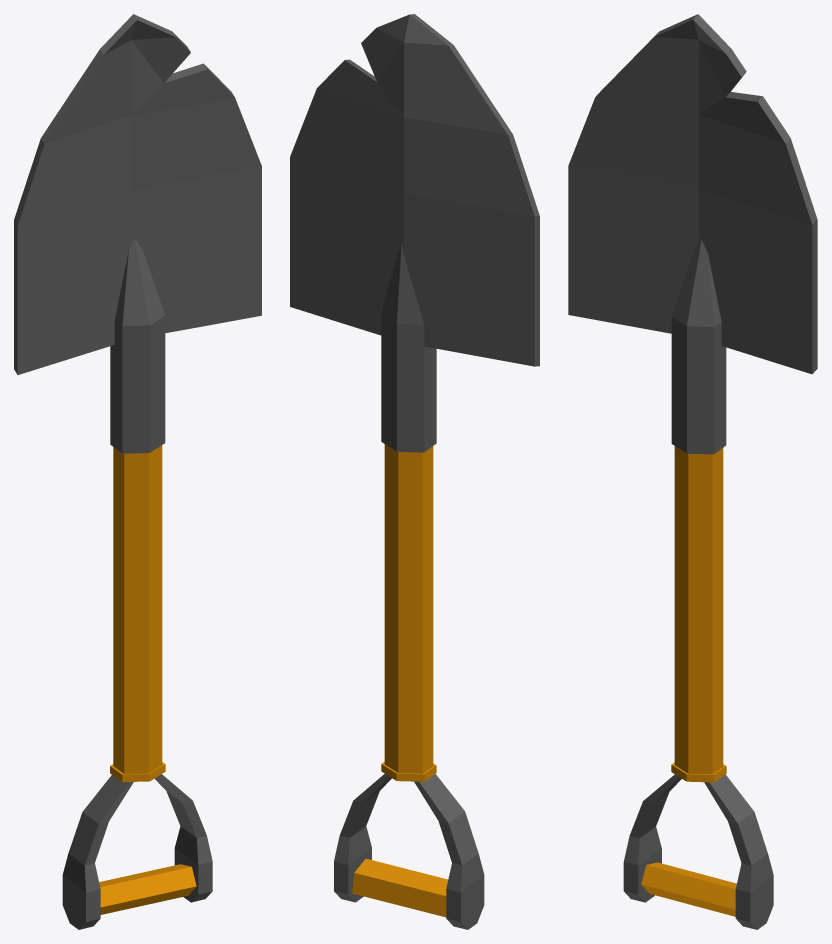
Rendered from shovelerdeath.fbx.
3 renders of one model, left to right at view 1: azimuth 30°, elevation 25°; view 2: azimuth 150°, elevation 25°; view 3: azimuth 330°, elevation 25°, orthographic.
Parts seen in each view (by area): view 1: Cylinder.002, Cylinder, Cube, Cylinder.001, Cube.001; view 2: Cylinder.002, Cylinder, Cube, Cylinder.001, Cube.001; view 3: Cylinder.002, Cylinder, Cube.001, Cylinder.001, Cube.
Part boxes in pixels (left/top/right/bottom): Cylinder.002: left=14, top=14, right=261, bottom=374; Cylinder: left=110, top=239, right=165, bottom=782; Cube: left=62, top=775, right=133, bottom=929; Cylinder.001: left=99, top=864, right=196, bottom=914; Cube.001: left=154, top=774, right=212, bottom=902; Cylinder.002: left=290, top=14, right=539, bottom=366; Cylinder: left=381, top=243, right=436, bottom=781; Cube: left=414, top=774, right=484, bottom=929; Cylinder.001: left=352, top=858, right=447, bottom=917; Cube.001: left=334, top=773, right=391, bottom=902; Cylinder.002: left=568, top=14, right=817, bottom=374; Cylinder: left=671, top=239, right=726, bottom=782; Cube.001: left=704, top=774, right=773, bottom=929; Cylinder.001: left=641, top=862, right=736, bottom=916; Cube: left=623, top=774, right=681, bottom=902.
Bounding box in the file's own units: 172 × 602 × 29.75.
